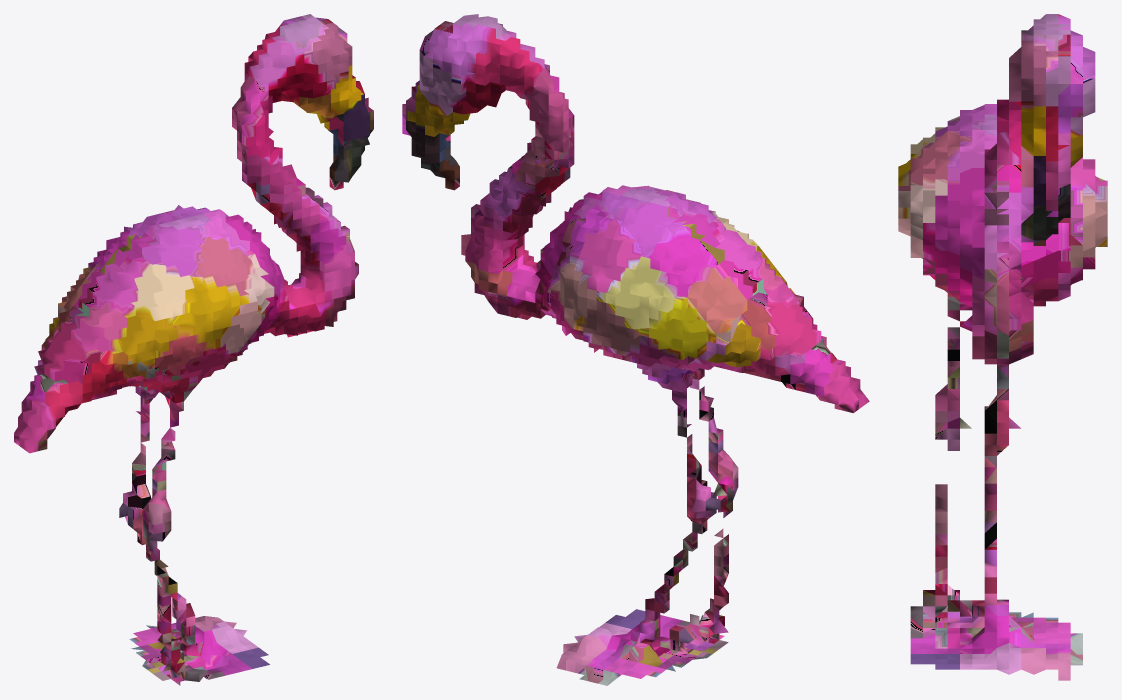
Rendered from simplified_flamingo.glb.
3 views of the same model, side by side, from view 1: azimuth 30°, elevation 25°; view 2: azimuth 150°, elevation 25°; view 3: azimuth 270°, elevation 25° (orthographic). The views are drawn at different scales.
Parts seen in each view (by area): view 1: Mesh1; view 2: Mesh1; view 3: Mesh1.
Boxes of the visible parts, x1=… form: Mesh1: x1=14, y1=14, x2=373, y2=685; Mesh1: x1=402, y1=14, x2=869, y2=685; Mesh1: x1=898, y1=14, x2=1107, y2=680.
Bounding box in the file's own units: 0.7337 × 1.05 × 0.2835.
Materials: 1 (1 with a texture image).
